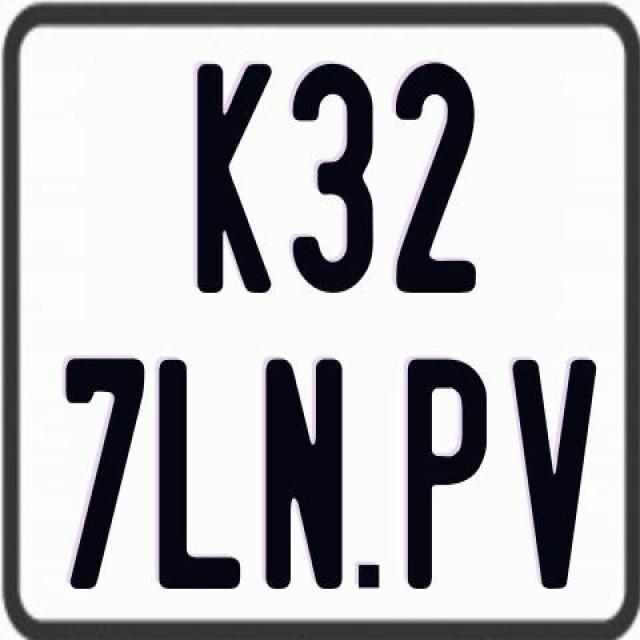2: (396, 61, 483, 301)
3: (289, 64, 371, 293)
7: (62, 358, 142, 594)
K: (194, 61, 274, 293)
L: (157, 360, 243, 589)
N: (261, 356, 340, 594)
P: (406, 356, 484, 590)
V: (509, 358, 596, 588)
